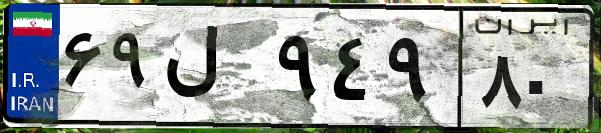0: (525, 38, 570, 115)
4: (330, 28, 385, 110)
6: (57, 26, 110, 100)
8: (475, 38, 525, 113)
9: (270, 28, 330, 110), (385, 28, 445, 110), (110, 28, 158, 98)
ل: (158, 20, 270, 120)
